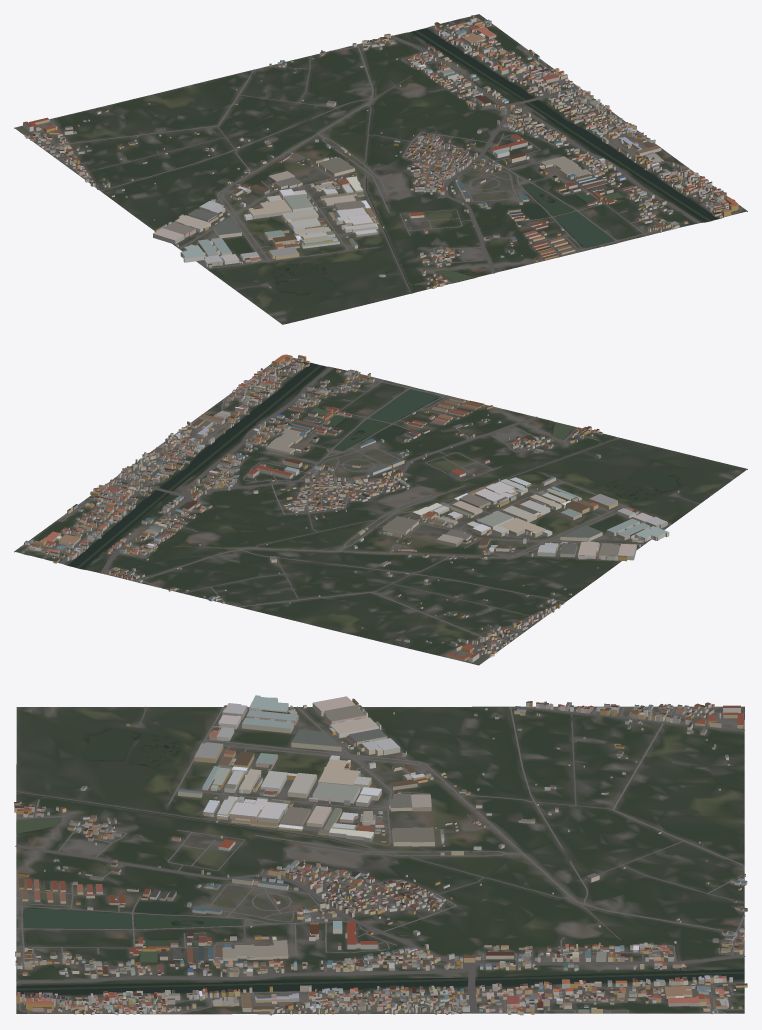
3 renders of one model, top to bottom at view 1: azimuth 30°, elevation 25°; view 2: azimuth 150°, elevation 25°; view 3: azimuth 270°, elevation 25°, orthographic. The views are drawn at different scales.
Visible parts, largest first — view 1: ground, buildings, roads, water; view 2: ground, buildings, roads, water; view 3: ground, buildings, roads, water.
Part boxes in pixels (x1,y1,x2,y2): ground: (14, 14, 747, 324); buildings: (23, 15, 738, 288); roads: (32, 17, 742, 293); water: (271, 17, 718, 294); ground: (14, 357, 747, 665); buildings: (21, 354, 679, 662); roads: (21, 358, 699, 656); water: (25, 363, 678, 568); ground: (16, 706, 744, 1014); buildings: (14, 695, 747, 1015); roads: (15, 706, 745, 1014); water: (16, 729, 744, 1006).
Size of the model in its own units: 1437 by 20.75 by 1413.
